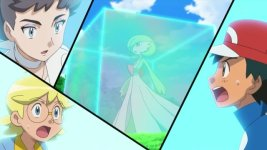gardevoir: (110, 33, 180, 136)
